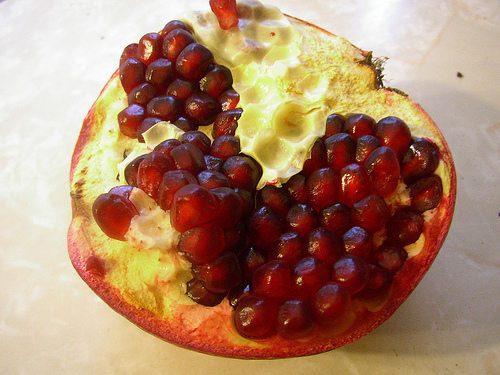pomogranate: (65, 0, 459, 360)
